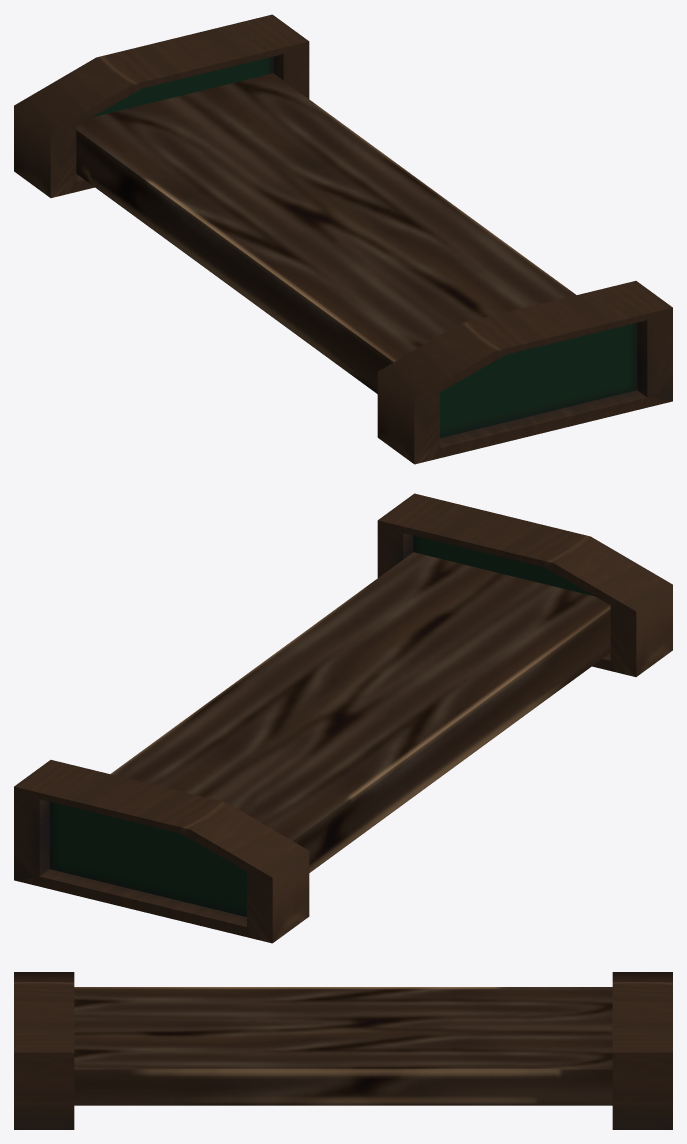
Rendered from SM_shelf3.fbx.
3 renders of one model, top to bottom at view 1: azimuth 30°, elevation 25°; view 2: azimuth 150°, elevation 25°; view 3: azimuth 270°, elevation 25°, orthographic. The views are drawn at different scales.
Parts seen in each view (by area): view 1: SM_shelf3; view 2: SM_shelf3; view 3: SM_shelf3.
Part boxes in pixels (bbox=[...]): SM_shelf3: bbox=[14, 14, 672, 464]; SM_shelf3: bbox=[14, 493, 672, 943]; SM_shelf3: bbox=[14, 972, 672, 1129].
Bounding box in the file's own units: 0.8289 × 0.2874 × 2.22.
